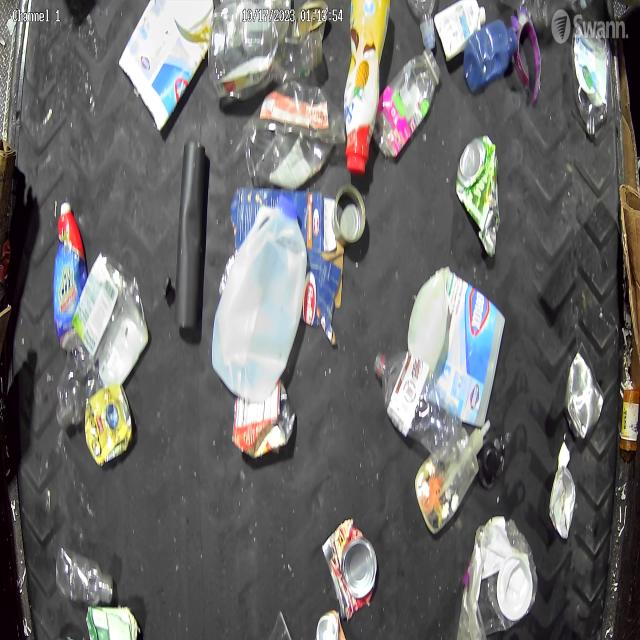can: (456, 135, 500, 257), (324, 522, 379, 618), (565, 350, 606, 442), (332, 184, 366, 246)
milk_jug: (212, 194, 307, 399)
plastic_bottle: (374, 347, 467, 457), (373, 48, 440, 157), (56, 548, 112, 606)
